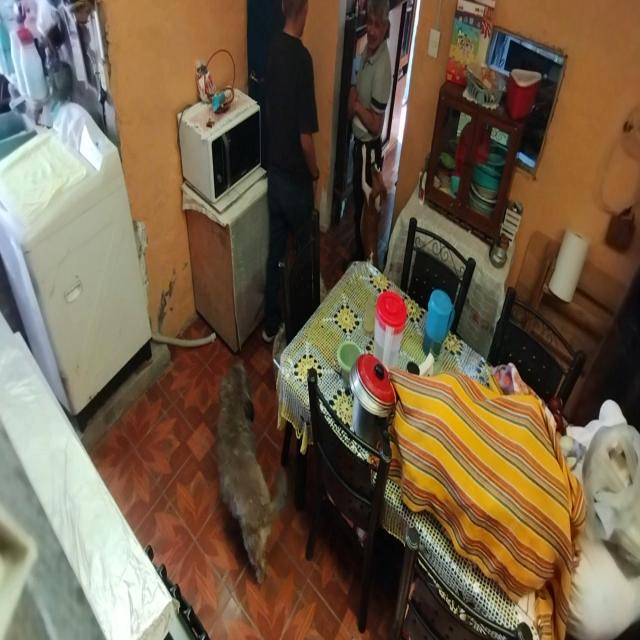adult: (258, 0, 324, 356), (345, 0, 396, 283)
